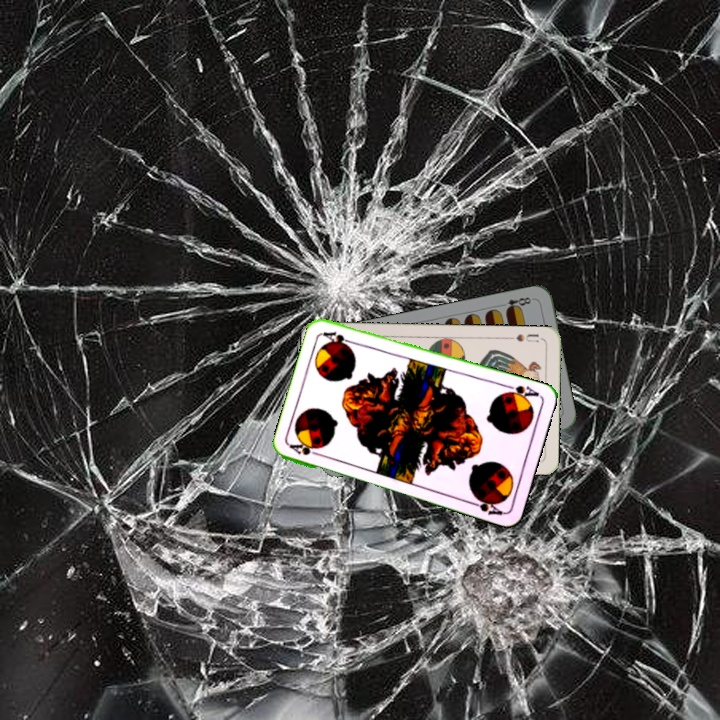E8: (496, 293, 536, 314)
SA: (500, 381, 542, 403), (286, 440, 326, 459)
SU: (504, 330, 541, 344)
